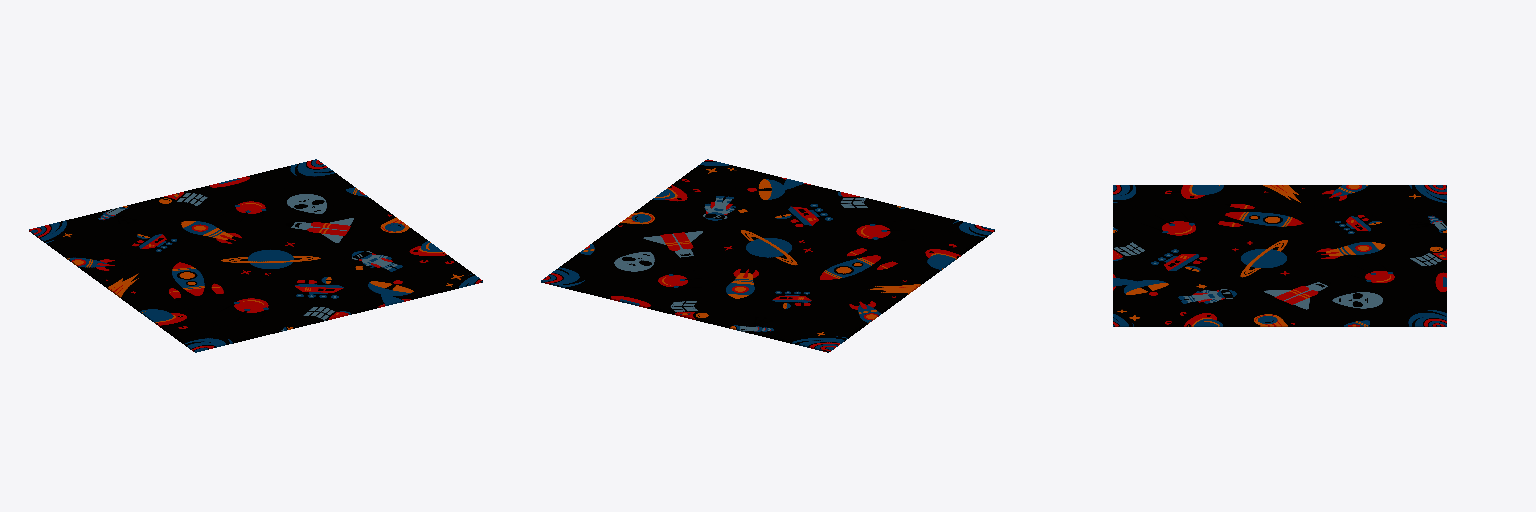
3 renders of one model, left to right at view 1: azimuth 30°, elevation 25°; view 2: azimuth 150°, elevation 25°; view 3: azimuth 270°, elevation 25°, orthographic.
Visible parts, largest first — view 1: Mesh1; view 2: Mesh1; view 3: Mesh1.
Part boxes in pixels (x1,y1,x2,y2): Mesh1: (29, 159, 482, 352); Mesh1: (541, 159, 994, 352); Mesh1: (1113, 185, 1446, 326).
Size of the model in its own units: 2 by 0.01 by 2.
Materials: 1 (1 with a texture image).